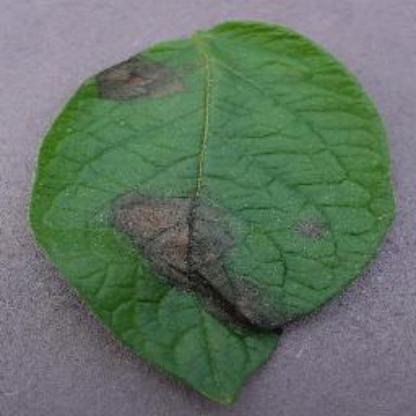Late-Blight: (20, 13, 400, 406)
